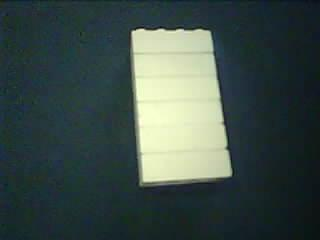lego: (128, 27, 234, 187)
